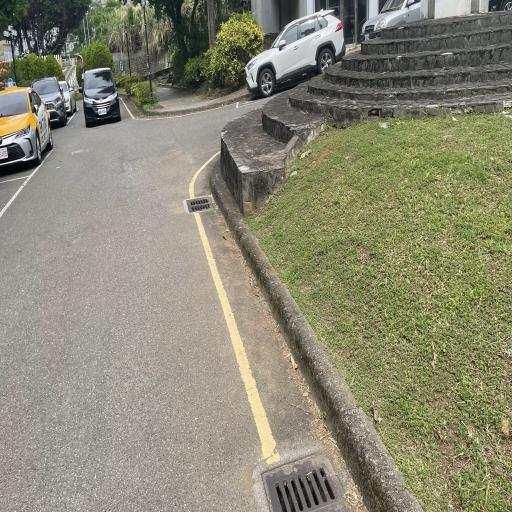car: (238, 2, 350, 104), (0, 76, 53, 176), (77, 66, 129, 136), (28, 64, 67, 132)
yellowline: (182, 129, 281, 469)
